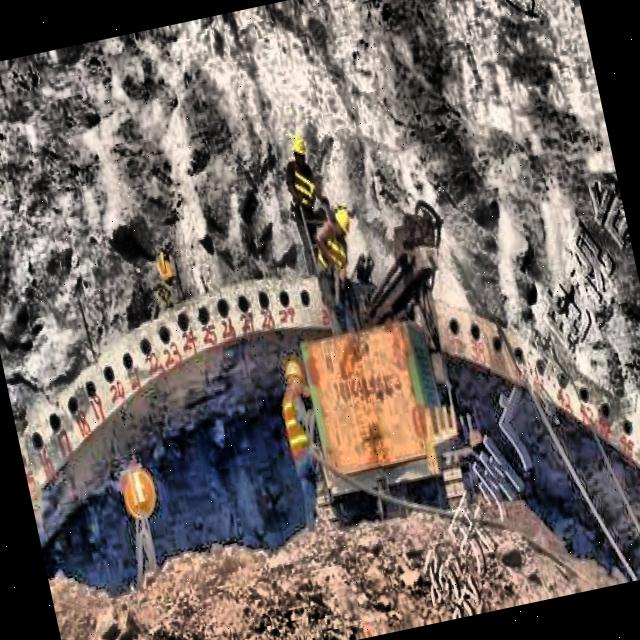helmet: (280, 358, 312, 402), (285, 130, 312, 172), (328, 203, 357, 240)
